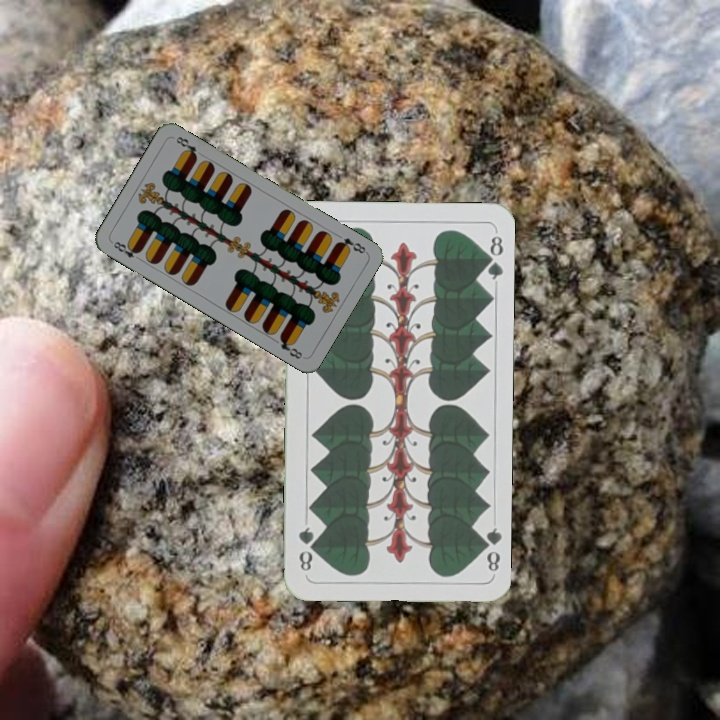E8: (108, 237, 144, 264), (332, 234, 368, 256)
G8: (476, 524, 503, 574)
